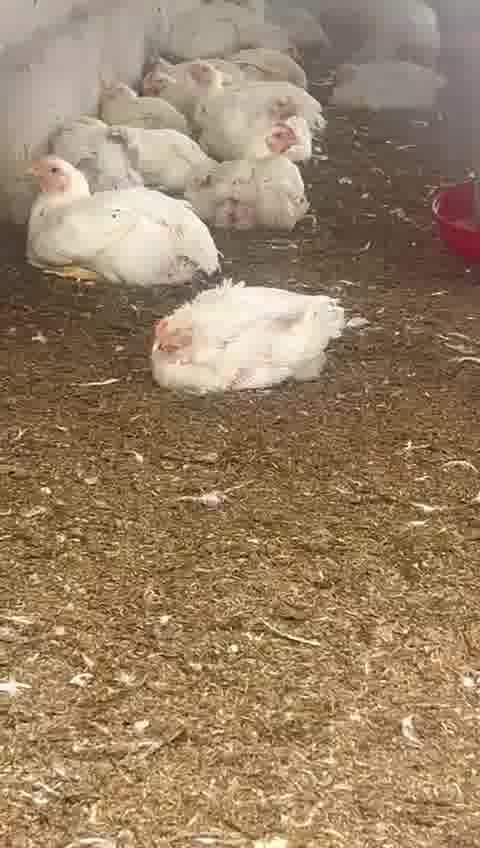AbNormal: (154, 279, 369, 398), (58, 119, 186, 196), (99, 81, 187, 147), (140, 52, 228, 107)
Normal: (21, 154, 214, 296), (210, 122, 315, 237), (188, 56, 331, 123), (320, 47, 456, 107), (213, 93, 318, 152)
